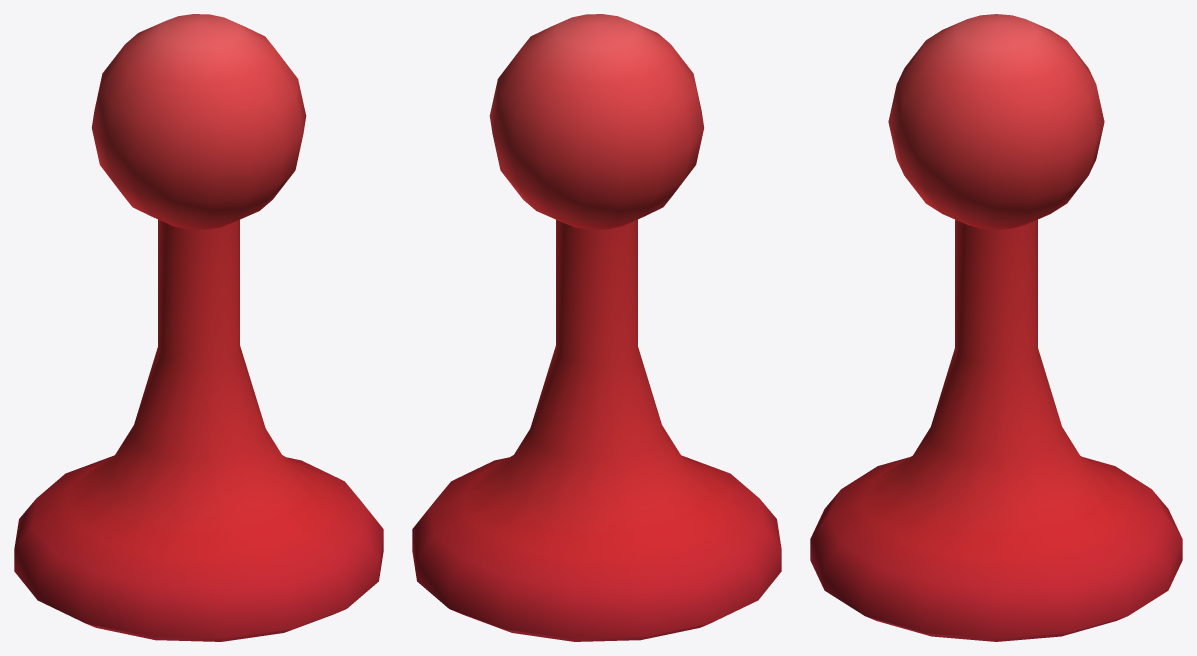
The model's file is pawn-b-red.glb.
3 renders of one model, left to right at view 1: azimuth 30°, elevation 25°; view 2: azimuth 150°, elevation 25°; view 3: azimuth 270°, elevation 25°, orthographic.
Visible parts, largest first — view 1: pawn_B_red; view 2: pawn_B_red; view 3: pawn_B_red.
Boxes of the visible parts, x1,y1,x2,y2 form: pawn_B_red: [14, 14, 383, 641]; pawn_B_red: [412, 14, 781, 641]; pawn_B_red: [810, 14, 1182, 641].
Size of the model in its own units: 0.75 by 1.21 by 0.75.
1 material, 1 textured.
